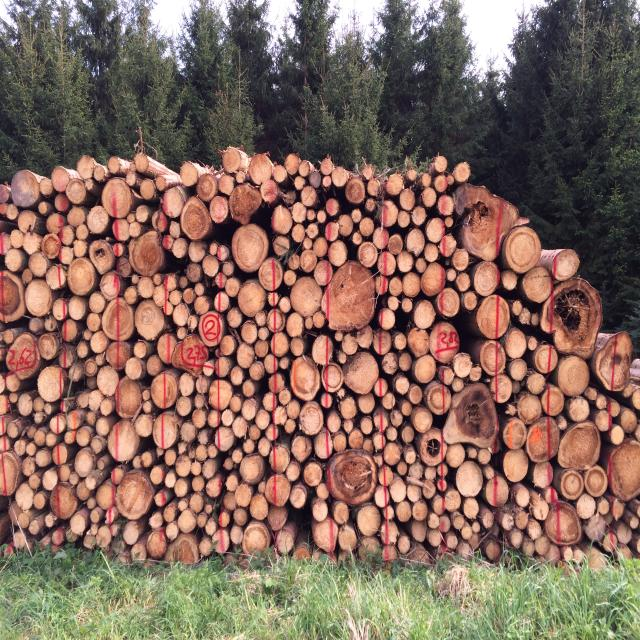wood-log: (542, 279, 603, 359), (463, 192, 522, 262), (442, 382, 498, 449), (324, 262, 377, 332), (329, 452, 377, 508), (596, 331, 635, 393), (560, 423, 603, 471), (116, 469, 154, 520), (608, 440, 640, 500), (232, 224, 270, 272), (128, 230, 164, 277), (506, 227, 542, 273), (545, 501, 581, 545), (8, 332, 42, 378), (343, 353, 380, 395), (477, 295, 511, 340), (175, 333, 212, 373), (9, 482, 40, 529), (182, 195, 212, 242), (557, 356, 591, 397), (109, 421, 141, 464), (291, 355, 321, 400), (103, 297, 133, 341), (292, 278, 324, 318), (102, 179, 134, 219), (232, 184, 264, 224), (429, 323, 460, 364), (135, 301, 167, 340), (67, 257, 98, 296), (114, 378, 144, 418), (0, 270, 23, 322), (522, 266, 552, 304), (11, 168, 39, 207), (152, 412, 180, 451), (37, 366, 67, 402), (238, 279, 267, 316), (169, 534, 203, 565), (455, 462, 483, 498), (51, 482, 79, 518), (150, 373, 177, 410), (25, 280, 52, 316), (526, 418, 548, 462), (254, 495, 286, 525), (162, 186, 190, 219), (242, 522, 270, 555), (419, 262, 446, 296), (0, 447, 19, 495), (481, 340, 506, 376), (264, 476, 292, 508), (475, 263, 502, 296), (259, 258, 285, 292), (199, 310, 223, 346), (504, 449, 530, 482), (484, 474, 510, 507), (300, 403, 326, 435), (90, 242, 116, 274), (411, 499, 430, 542), (312, 518, 336, 552), (554, 250, 580, 281), (356, 504, 381, 536), (437, 288, 463, 318), (239, 454, 265, 484), (106, 341, 132, 371), (585, 511, 609, 543), (208, 379, 232, 411), (99, 272, 126, 300), (509, 484, 530, 520), (413, 299, 438, 329), (419, 436, 444, 466), (504, 420, 528, 451), (518, 391, 541, 423), (426, 382, 449, 414), (197, 172, 223, 200), (543, 385, 566, 416), (505, 328, 528, 359), (534, 342, 557, 373), (276, 524, 298, 556), (98, 366, 121, 396), (414, 356, 437, 386), (312, 334, 334, 365), (219, 148, 244, 175), (88, 206, 112, 234), (68, 509, 90, 539), (145, 528, 167, 558), (492, 374, 513, 405), (320, 364, 342, 393), (408, 328, 430, 357), (586, 467, 607, 497), (531, 463, 554, 490), (158, 332, 178, 363), (290, 435, 312, 463), (273, 205, 294, 234), (270, 444, 290, 474), (411, 406, 434, 432), (65, 177, 88, 203), (51, 165, 72, 193), (74, 447, 95, 475), (407, 229, 427, 258), (568, 396, 590, 422), (562, 471, 582, 499), (209, 196, 229, 224), (346, 175, 366, 203), (338, 525, 358, 553), (314, 260, 334, 288), (4, 249, 27, 273), (425, 217, 448, 241), (176, 509, 198, 534), (249, 494, 269, 521), (376, 201, 396, 228), (68, 297, 90, 321), (123, 520, 145, 544), (314, 429, 331, 460), (267, 507, 288, 532), (621, 408, 640, 435), (481, 538, 503, 561), (206, 476, 227, 500), (330, 240, 350, 265), (448, 443, 468, 468), (305, 461, 325, 486), (358, 242, 378, 267), (215, 428, 235, 453), (134, 412, 154, 437), (380, 440, 400, 465), (578, 493, 597, 519), (98, 482, 116, 509), (30, 253, 50, 277), (63, 319, 83, 343), (336, 213, 356, 237), (180, 162, 200, 186), (289, 483, 307, 509), (41, 233, 59, 259), (531, 495, 549, 521), (525, 372, 546, 394), (19, 210, 41, 231), (510, 357, 530, 380), (75, 156, 95, 179), (236, 483, 256, 506), (170, 237, 190, 260), (430, 155, 450, 178), (202, 254, 221, 278), (75, 479, 94, 503), (238, 344, 256, 369), (388, 478, 406, 503), (91, 332, 111, 354), (68, 205, 87, 228), (272, 333, 291, 356), (444, 487, 462, 511), (227, 306, 245, 330), (2, 416, 20, 440), (285, 312, 303, 336), (155, 486, 175, 507), (452, 250, 471, 272), (440, 234, 459, 256), (387, 173, 406, 195), (594, 409, 612, 432), (240, 322, 258, 345), (54, 443, 72, 466), (628, 496, 640, 530), (188, 241, 208, 261), (178, 372, 194, 397), (334, 503, 352, 525), (46, 212, 68, 230), (41, 469, 59, 491), (92, 290, 109, 313), (439, 195, 456, 218), (395, 498, 411, 522), (382, 350, 398, 374), (24, 232, 40, 256), (125, 358, 144, 378), (0, 154, 14, 181), (224, 276, 242, 297), (146, 353, 163, 375), (454, 162, 471, 184), (230, 364, 247, 386), (380, 308, 397, 330), (19, 392, 33, 418), (357, 394, 375, 414), (150, 465, 168, 485), (412, 206, 429, 227), (290, 202, 307, 223), (339, 396, 356, 417), (422, 186, 438, 208), (394, 374, 410, 396), (414, 498, 429, 521), (285, 461, 302, 481), (4, 373, 20, 394), (326, 413, 342, 434), (401, 188, 416, 210), (304, 185, 319, 207), (422, 243, 440, 261), (233, 509, 251, 527), (0, 203, 19, 220), (135, 340, 152, 359), (502, 270, 518, 290), (610, 424, 626, 444), (360, 216, 376, 236), (463, 290, 479, 310), (324, 198, 340, 218), (462, 498, 478, 518), (375, 230, 390, 251), (314, 500, 328, 522), (398, 350, 412, 372), (476, 448, 493, 466), (373, 378, 390, 396), (0, 514, 10, 544), (317, 391, 334, 408), (55, 194, 71, 212), (250, 362, 266, 380), (164, 448, 180, 466), (409, 384, 423, 404), (375, 487, 389, 507), (396, 535, 410, 555), (242, 380, 257, 398), (95, 164, 110, 182), (630, 408, 640, 434), (614, 497, 627, 517), (282, 418, 298, 434), (382, 392, 397, 409), (584, 385, 599, 402), (254, 339, 268, 357), (62, 223, 75, 242), (44, 315, 59, 331), (598, 497, 611, 515), (0, 232, 9, 258), (0, 182, 10, 205), (266, 354, 278, 373), (631, 386, 640, 410), (0, 393, 10, 414), (37, 202, 51, 216), (76, 222, 90, 236), (633, 532, 640, 555), (0, 374, 7, 395)
